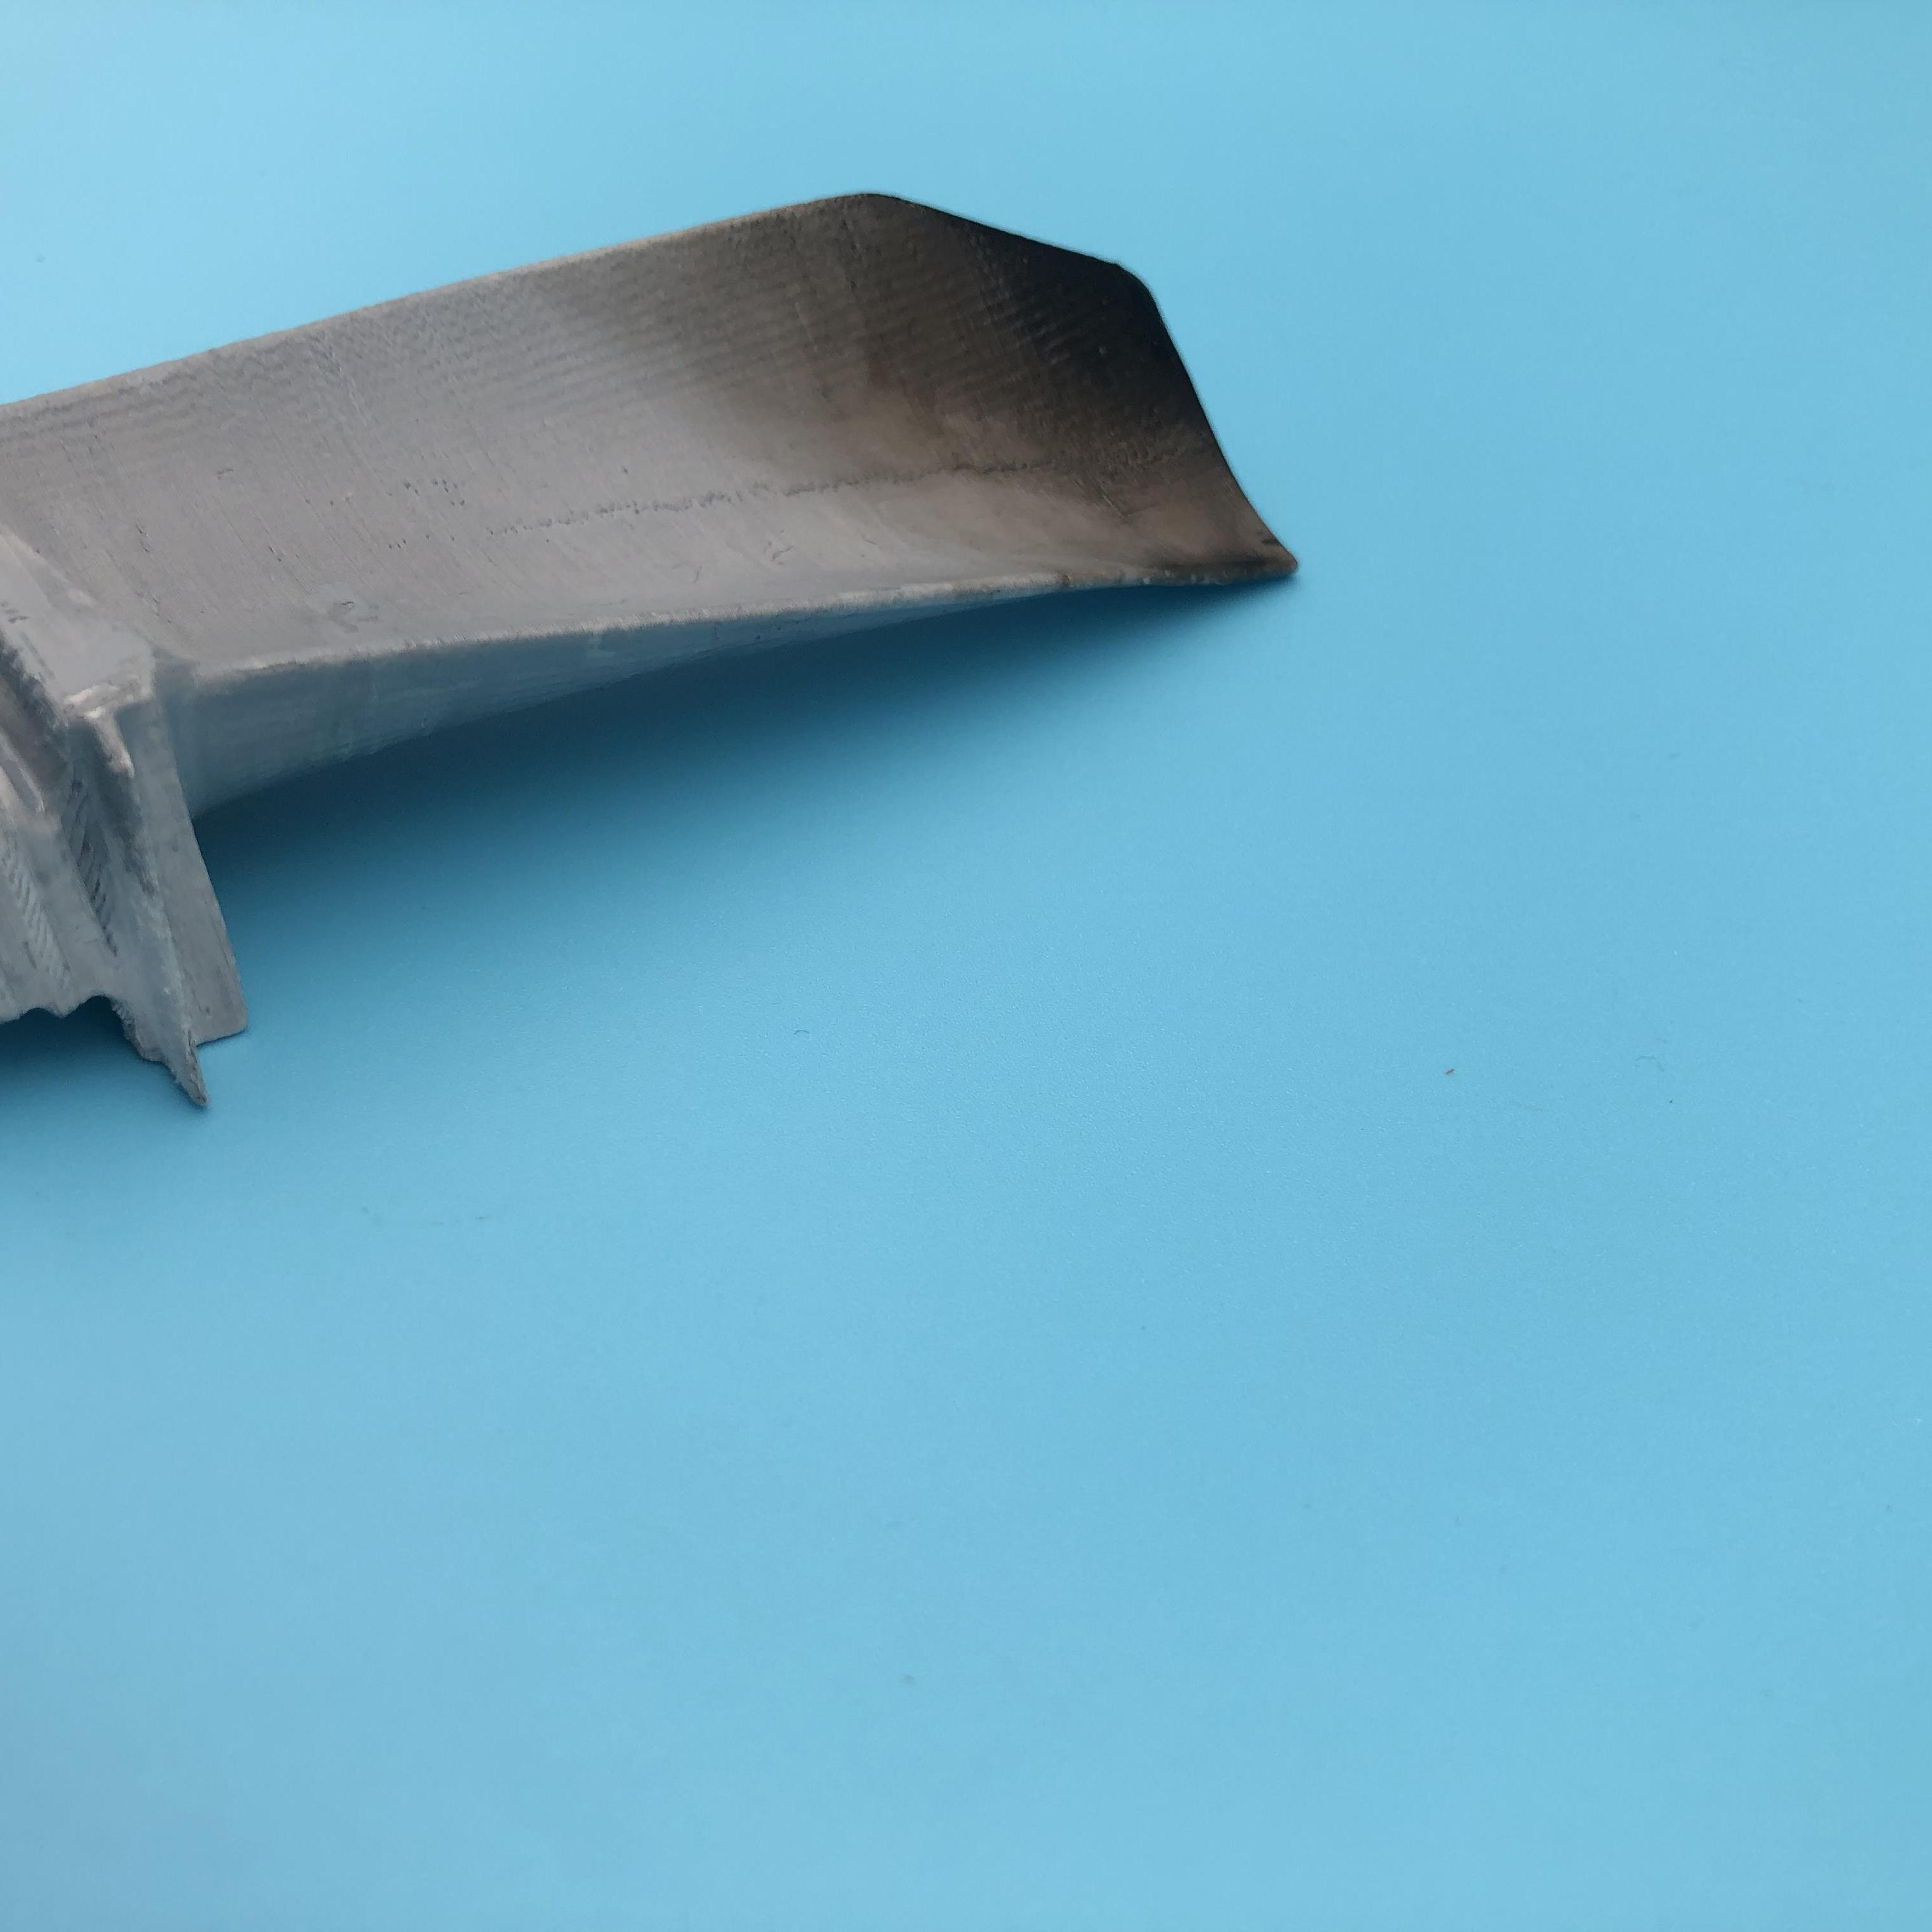ablation: (701, 214, 1284, 575)
